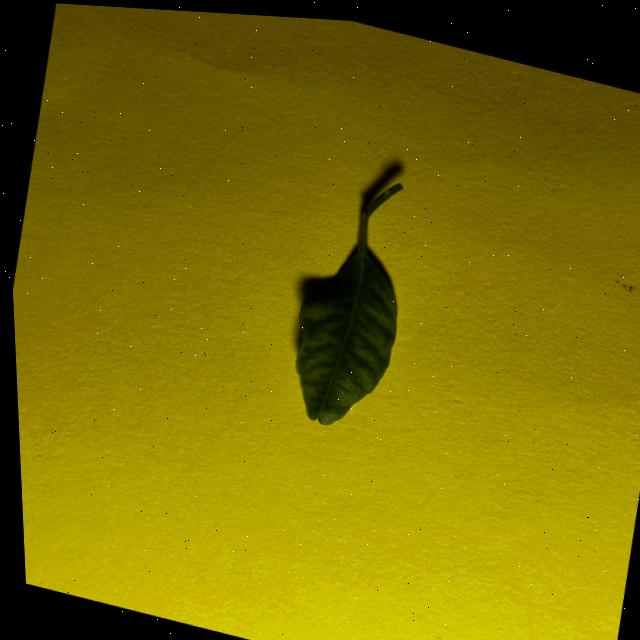greening: (296, 185, 402, 425)
